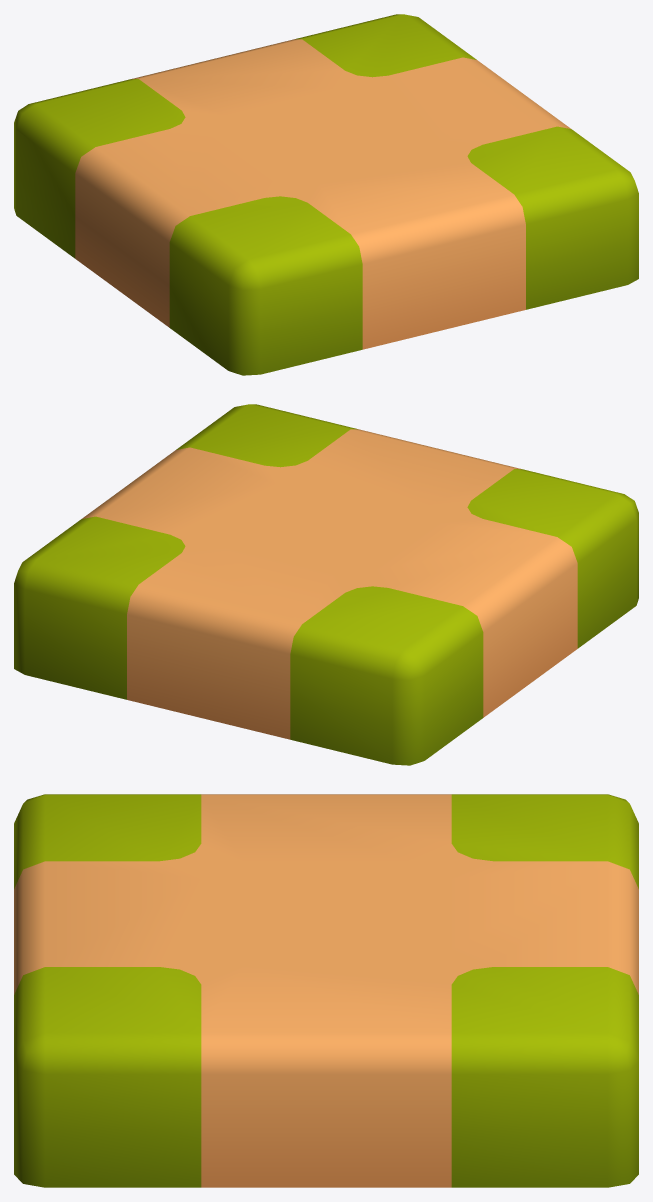
Rendered from 3D_Tile_Top_Path_04.fbx.
The picture shows the model from 3 angles, top to bottom: view 1: azimuth 30°, elevation 25°; view 2: azimuth 150°, elevation 25°; view 3: azimuth 270°, elevation 25°; orthographic projection. The views are drawn at different scales.
Parts seen in each view (by area): view 1: 3D_Tile_Top_Path_04; view 2: 3D_Tile_Top_Path_04; view 3: 3D_Tile_Top_Path_04.
Part boxes in pixels (x1=…): 3D_Tile_Top_Path_04: x1=14, y1=14, x2=638, y2=375; 3D_Tile_Top_Path_04: x1=14, y1=404, x2=638, y2=765; 3D_Tile_Top_Path_04: x1=14, y1=794, x2=638, y2=1187.
Bounding box in the file's own units: 200 × 50 × 200.
